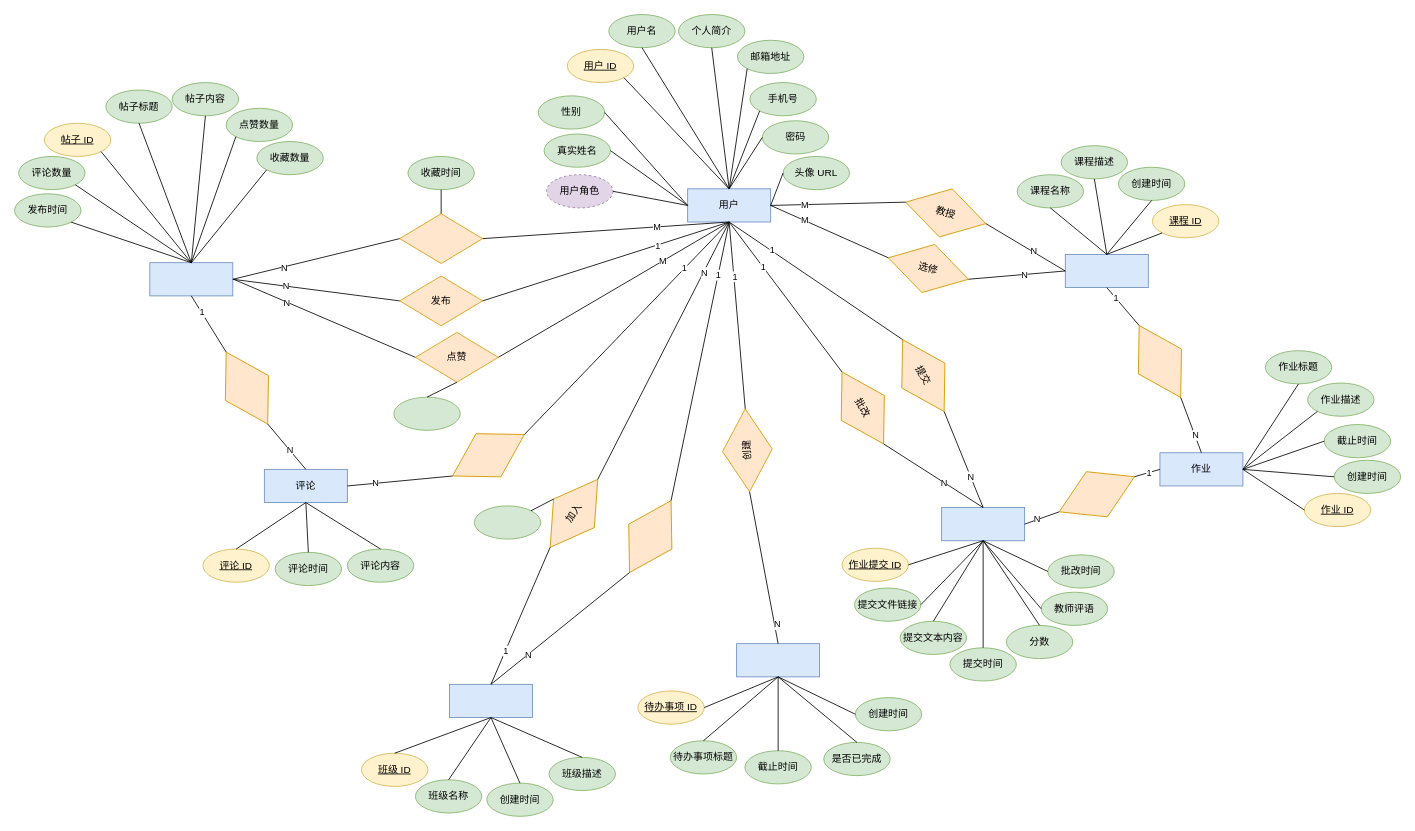
The diagram is 1415 pixels wide and 831 high, and some of its shapes have lost their labels. The centre of each missing label's shape, as x and y in pixels:
"作业提交" belongs at (983,524).
"创建班级" belongs at (650,536).
"加入时间" belongs at (507,522).
"包含" belongs at (1159,361).
"发表" belongs at (488,455).
"属于" belongs at (1096,494).
"帖子" belongs at (191,279).
"待办事项" belongs at (778,660).
"收藏" belongs at (441,238).
"点赞时间" belongs at (426,413).
"班级" belongs at (490,701).
"被评论" belongs at (246,388).
"课程" belongs at (1106,271).
